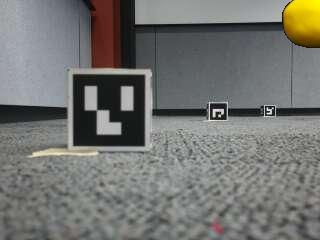lemon: (284, 0, 320, 48)
